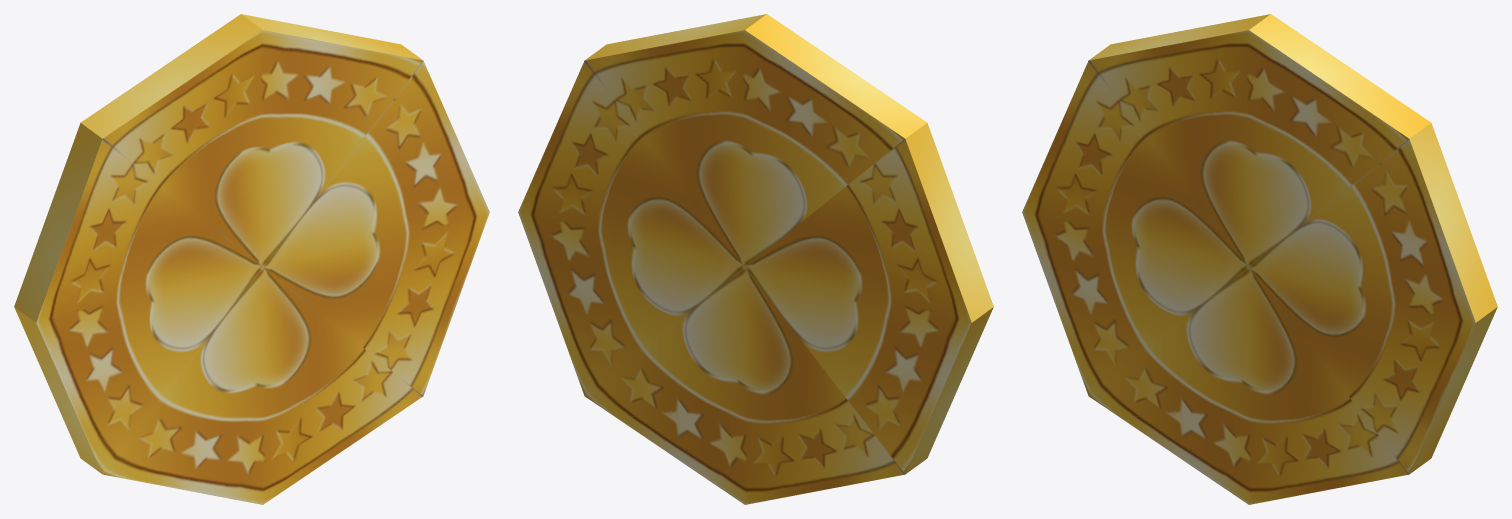
File: coin_1.fbx
3 renders of one model, left to right at view 1: azimuth 30°, elevation 25°; view 2: azimuth 150°, elevation 25°; view 3: azimuth 330°, elevation 25°, orthographic.
Parts seen in each view (by area): view 1: coin; view 2: coin; view 3: coin.
Boxes of the visible parts, bbox=[...] form: coin: bbox=[14, 14, 489, 504]; coin: bbox=[518, 14, 993, 504]; coin: bbox=[1022, 14, 1497, 504].
Size of the model in its own units: 29.87 by 29.87 by 2.51.
